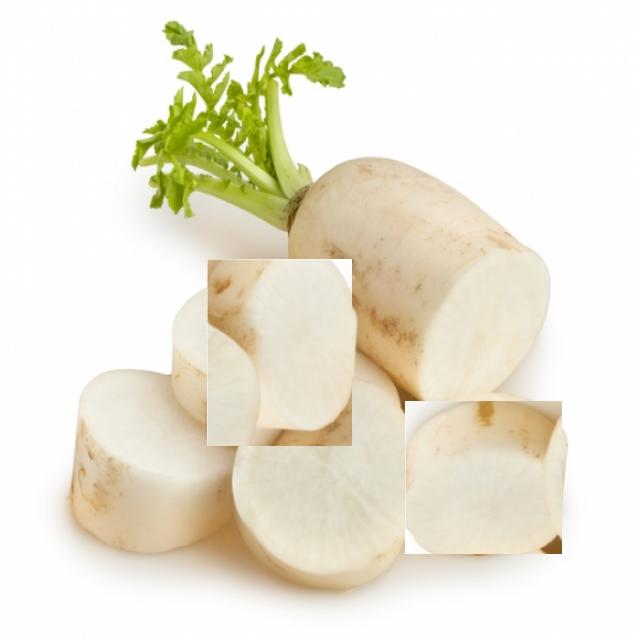radish: (196, 270, 362, 436), (405, 400, 562, 554)
